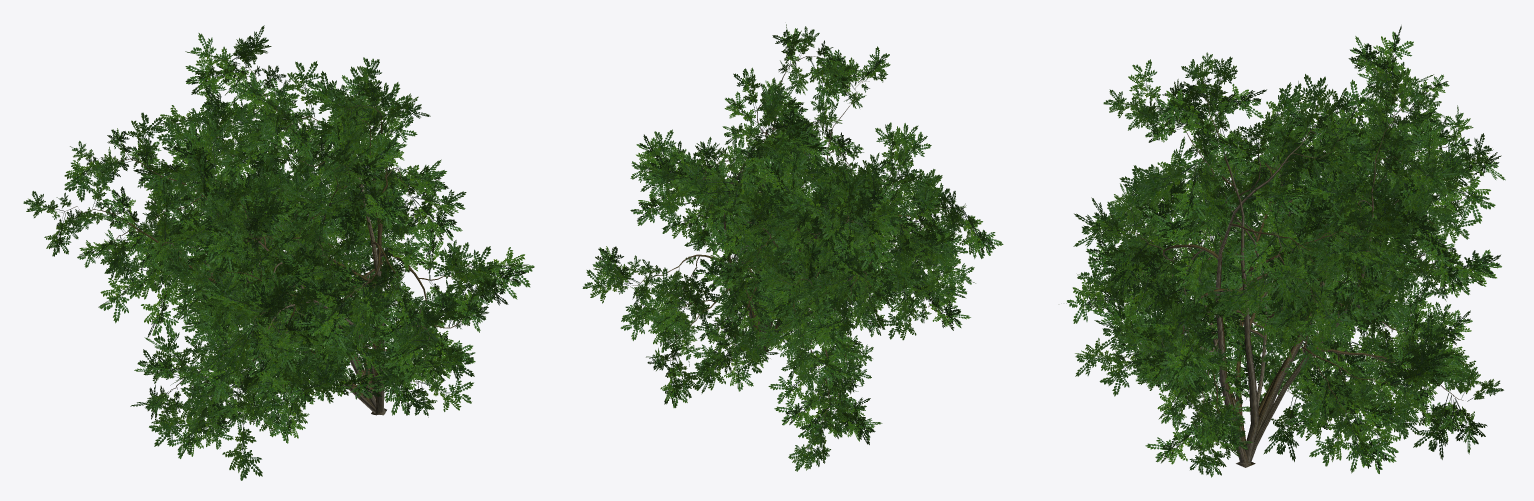
Rendered from bush_01.optimized-BQFcQAV-.glb.
3 renders of one model, left to right at view 1: azimuth 30°, elevation 25°; view 2: azimuth 150°, elevation 25°; view 3: azimuth 270°, elevation 25°, orthographic. The views are drawn at different scales.
Visible parts, largest first — view 1: BUSH_LEAVES, BUSH_TRUNK; view 2: BUSH_LEAVES, BUSH_TRUNK; view 3: BUSH_LEAVES, BUSH_TRUNK.
Boxes of the visible parts, x1,y1,x2,y2 form: BUSH_LEAVES: (23, 25, 534, 480); BUSH_TRUNK: (64, 64, 473, 415); BUSH_LEAVES: (582, 24, 1003, 471); BUSH_TRUNK: (630, 56, 966, 425); BUSH_LEAVES: (1066, 25, 1505, 477); BUSH_TRUNK: (1114, 78, 1468, 467).
Size of the model in its own units: 0.957 by 0.9987 by 0.9249.
2 materials, 2 textured.
